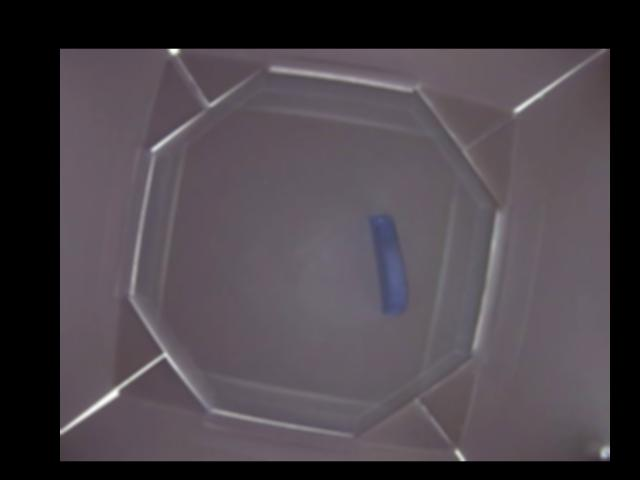Mooli: (370, 214, 410, 314)
